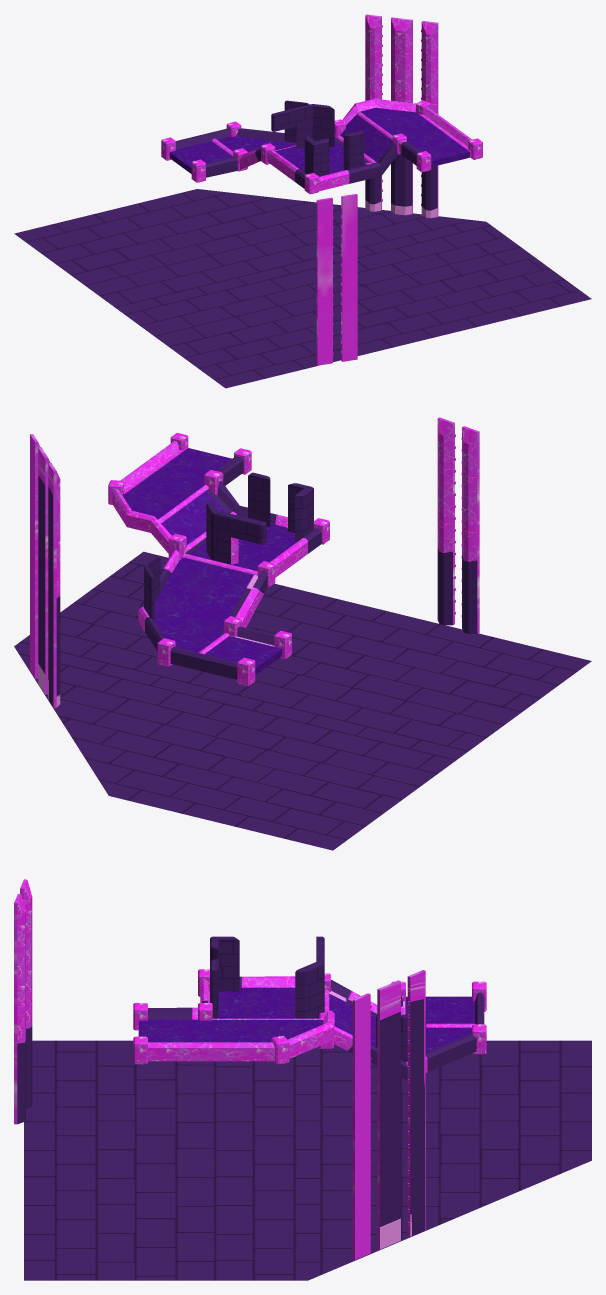
File: City_updates_Bkp.fbx
3 renders of one model, top to bottom at view 1: azimuth 30°, elevation 25°; view 2: azimuth 150°, elevation 25°; view 3: azimuth 270°, elevation 25°, orthographic. The views are drawn at different scales.
Parts seen in each view (by area): view 1: City_floor_cobbled, City_floor, City_moving_platform_base, City_moving_platform_base2, City_structures; view 2: City_floor_cobbled, City_floor, City_moving_platform_base2, City_moving_platform_base, City_structures, City_structure4; view 3: City_floor_cobbled, City_floor, City_moving_platform_base, City_moving_platform_base2, City_structures.
Part boxes in pixels (box(x1,y1,x2,y2)): City_floor_cobbled: box(14, 189, 591, 388); City_floor: box(161, 98, 482, 194); City_moving_platform_base: box(365, 14, 438, 218); City_moving_platform_base2: box(316, 194, 357, 365); City_structures: box(271, 104, 363, 176); City_floor_cobbled: box(14, 551, 591, 850); City_floor: box(108, 432, 329, 686); City_moving_platform_base2: box(437, 417, 479, 633); City_moving_platform_base: box(30, 434, 60, 707); City_structures: box(206, 472, 313, 564); City_structure4: box(144, 556, 160, 621); City_floor_cobbled: box(24, 1040, 591, 1280); City_floor: box(133, 969, 486, 1080); City_moving_platform_base: box(352, 970, 425, 1259); City_moving_platform_base2: box(14, 879, 32, 1124); City_structures: box(210, 936, 324, 1018).
Bounding box in the file's own units: 1562 × 789 × 1590.
